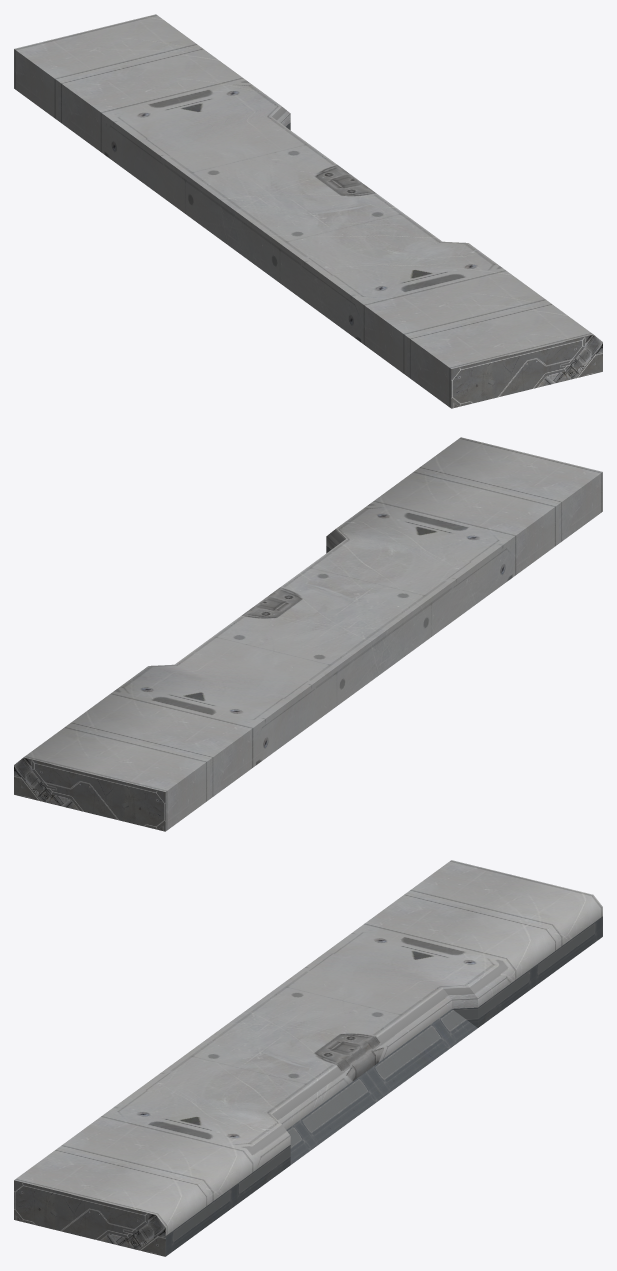
Rendered from SM_stairS1u.fbx.
3 views of the same model, one above another, from view 1: azimuth 30°, elevation 25°; view 2: azimuth 150°, elevation 25°; view 3: azimuth 330°, elevation 25° (orthographic).
Parts seen in each view (by area): view 1: SM_stairS1u_LOD0; view 2: SM_stairS1u_LOD0; view 3: SM_stairS1u_LOD0.
Boxes of the visible parts, bbox=[...] form: SM_stairS1u_LOD0: bbox=[14, 14, 602, 408]; SM_stairS1u_LOD0: bbox=[14, 437, 602, 831]; SM_stairS1u_LOD0: bbox=[14, 860, 602, 1256].
Size of the model in its own units: 40 by 200 by 10.
3 materials, 3 textured.
